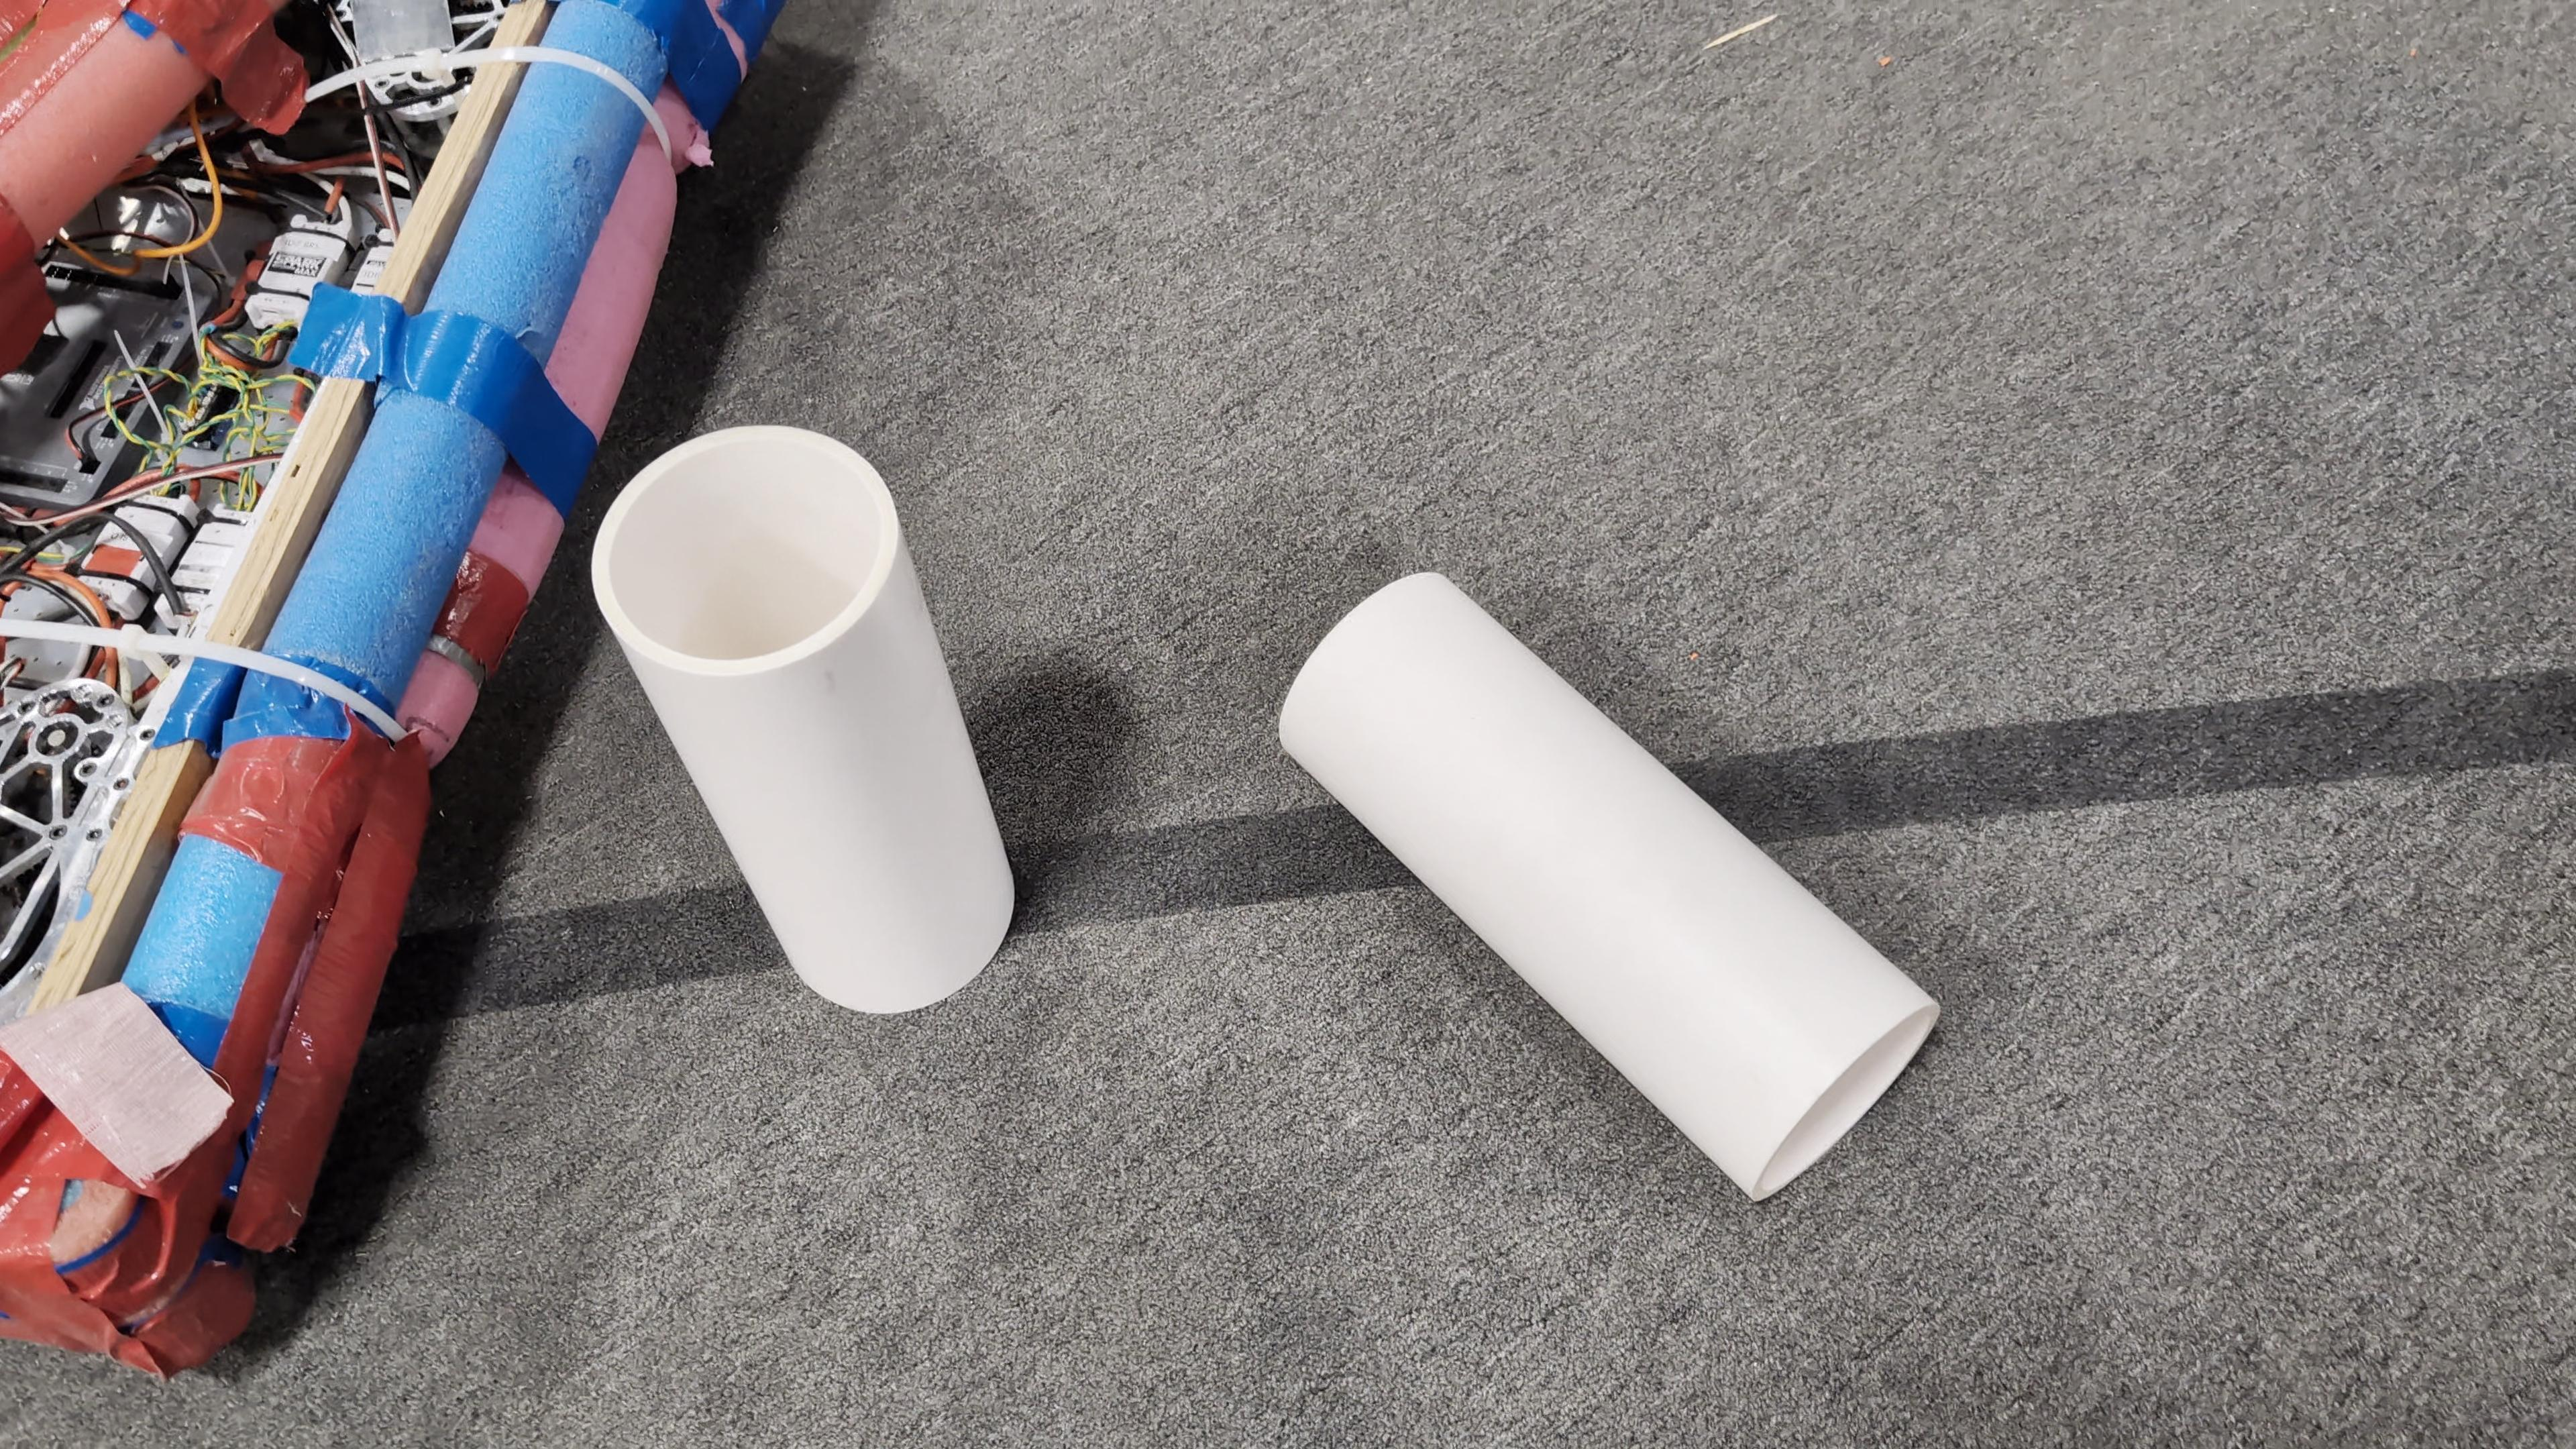coral: (1279, 573, 1941, 1198), (591, 425, 1016, 1012)
